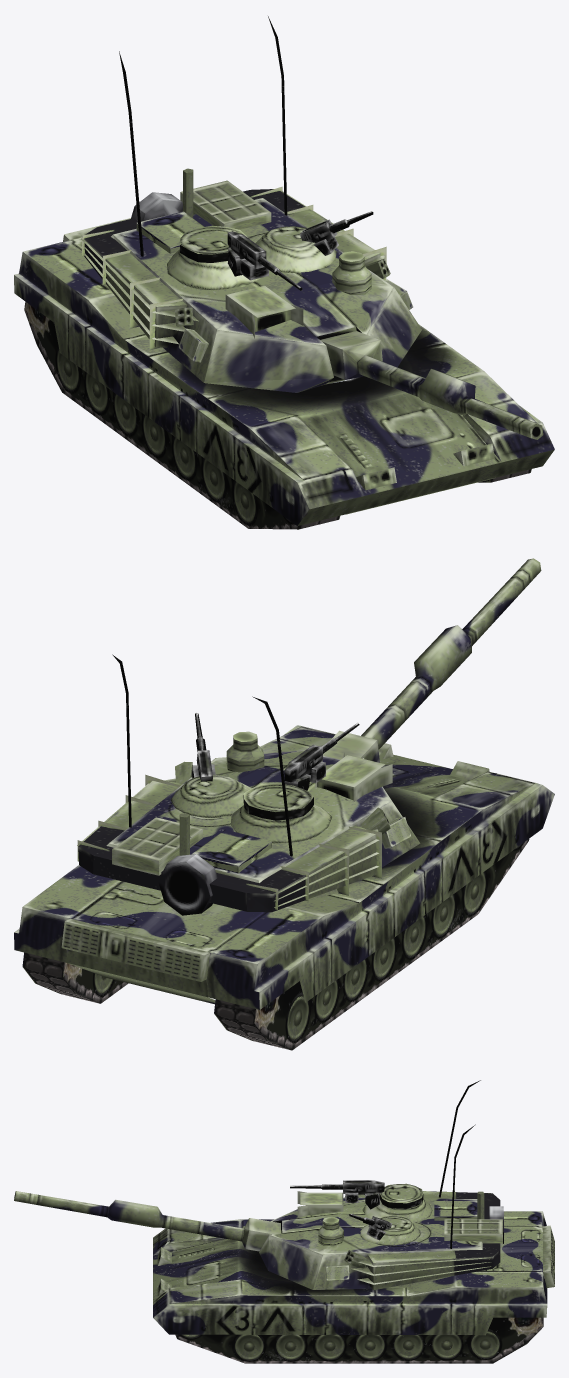
Rendered from M1Abrams.FBX.
3 renders of one model, top to bottom at view 1: azimuth 30°, elevation 25°; view 2: azimuth 150°, elevation 25°; view 3: azimuth 270°, elevation 25°, orthographic. The views are drawn at different scales.
Parts seen in each view (by area): view 1: body, tower, wheels, cannon01, aerials; view 2: body, tower, wheels, cannon01, aerials; view 3: body, tower, wheels, cannon01, aerials.
Part boxes in pixels (box(x1,y1,x2,y2)): body: box(14, 218, 554, 525); tower: box(81, 168, 421, 392); wheels: box(24, 302, 531, 529); cannon01: box(320, 331, 543, 439); aerials: box(119, 16, 287, 256); body: box(14, 725, 554, 1009); tower: box(77, 713, 420, 915); wheels: box(22, 839, 529, 1050); cannon01: box(323, 558, 541, 762); aerials: box(112, 654, 292, 856); body: box(153, 1211, 554, 1335); tower: box(259, 1180, 503, 1289); wheels: box(175, 1317, 543, 1363); cannon01: box(14, 1191, 281, 1251); aerials: box(439, 1080, 480, 1248).
Size of the model in its own units: 62.13 by 82.26 by 178.
1 material, 1 textured.
